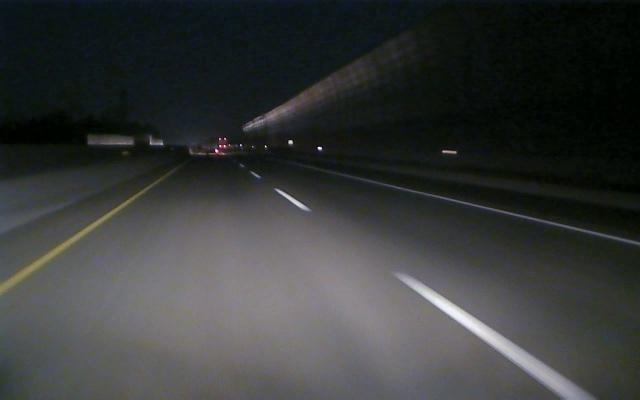lane: (252, 172, 595, 397), (336, 171, 640, 246), (3, 182, 155, 293)
